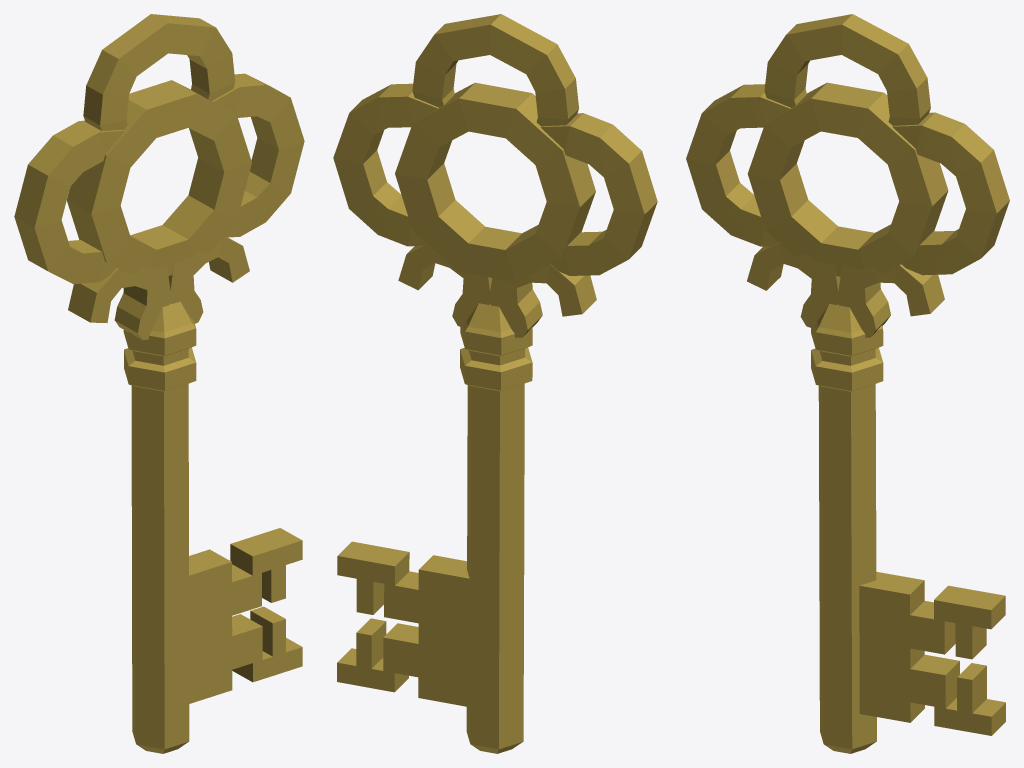
File: Key.glb
The picture shows the model from 3 angles, left to right: view 1: azimuth 30°, elevation 25°; view 2: azimuth 150°, elevation 25°; view 3: azimuth 330°, elevation 25°; orthographic projection.
Visible parts, largest first — view 1: Key; view 2: Key; view 3: Key.
Boxes of the visible parts, left/top/right/bottom form: Key: left=14, top=14, right=304, bottom=753; Key: left=333, top=14, right=657, bottom=753; Key: left=686, top=14, right=1009, bottom=753.
Bounding box in the file's own units: 0.8565 × 2.02 × 0.1892.
